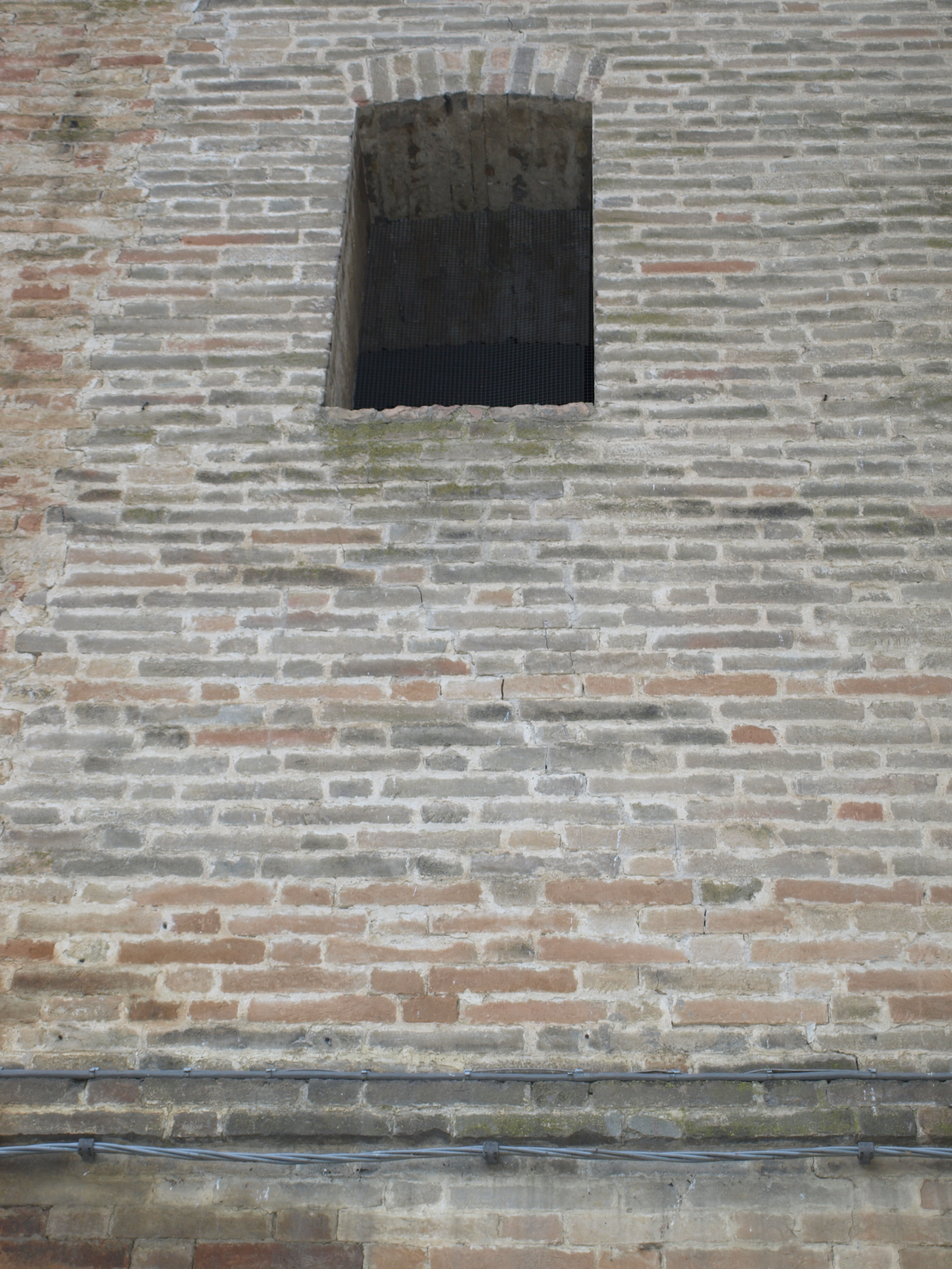Crack: (276, 423, 593, 780)
